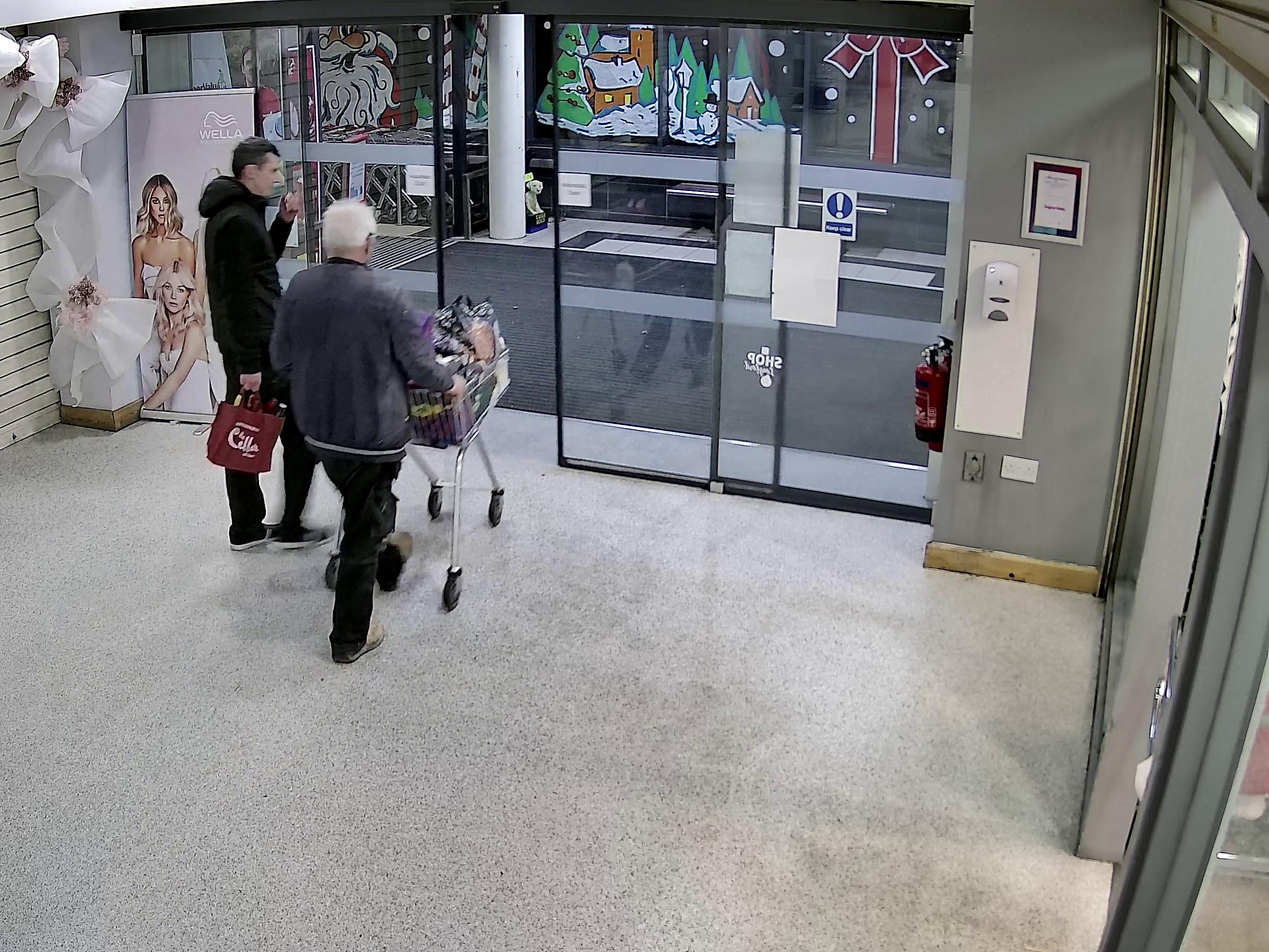filled-shopping-bags: (208, 389, 284, 475)
filled-trolly: (413, 293, 506, 614)
person: (271, 199, 467, 664), (197, 137, 314, 548)
person-with-filled-basket-trolly: (274, 199, 505, 663)
person-with-filled-shopping-bag-s-: (199, 136, 333, 552)
